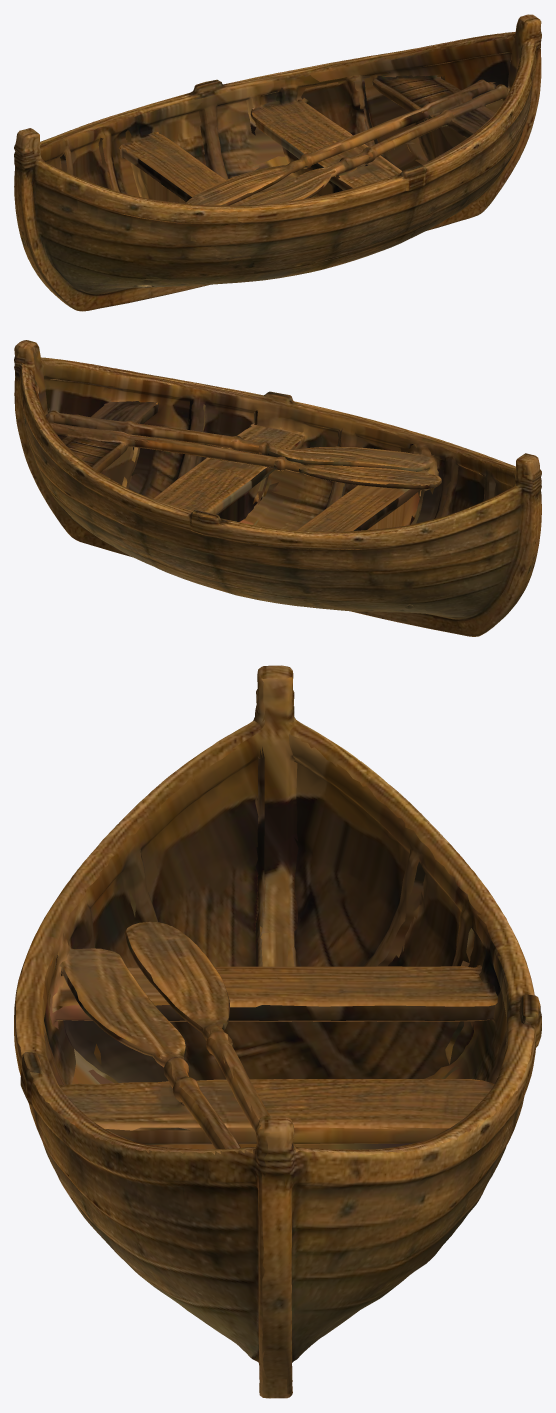
The model's file is rowboat.web.glb.
3 renders of one model, top to bottom at view 1: azimuth 30°, elevation 25°; view 2: azimuth 150°, elevation 25°; view 3: azimuth 270°, elevation 25°, orthographic. The views are drawn at different scales.
Parts seen in each view (by area): view 1: painted; view 2: painted; view 3: painted.
Part boxes in pixels (bbox=[...]): painted: bbox=[14, 14, 541, 311]; painted: bbox=[14, 340, 541, 636]; painted: bbox=[14, 665, 541, 1398].
Size of the model in its own units: 1.99 by 0.7124 by 0.9802.
Materials: 1 (1 with a texture image).
